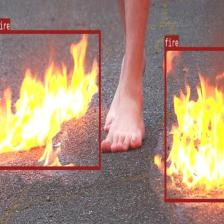fire: (0, 29, 100, 169), (164, 47, 224, 201)
